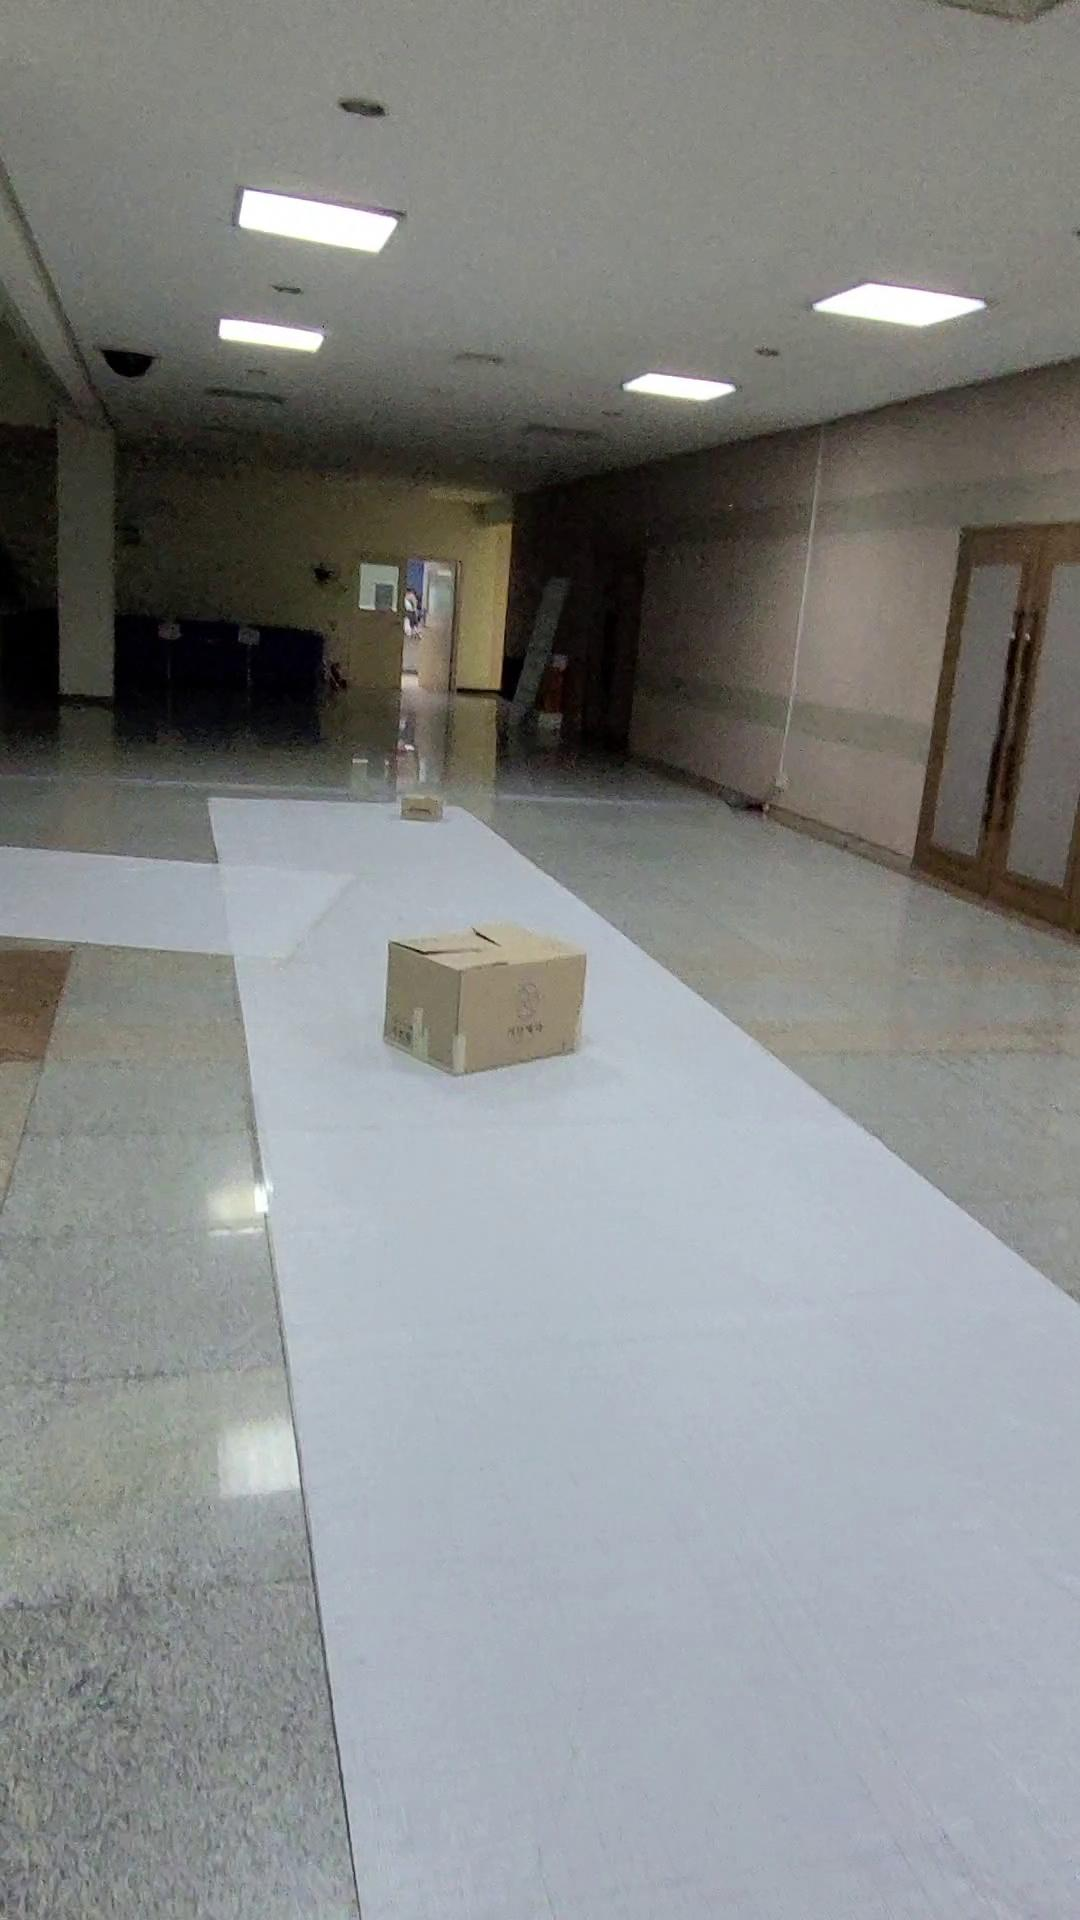Box: (356, 918, 615, 1102), (378, 775, 472, 832)
